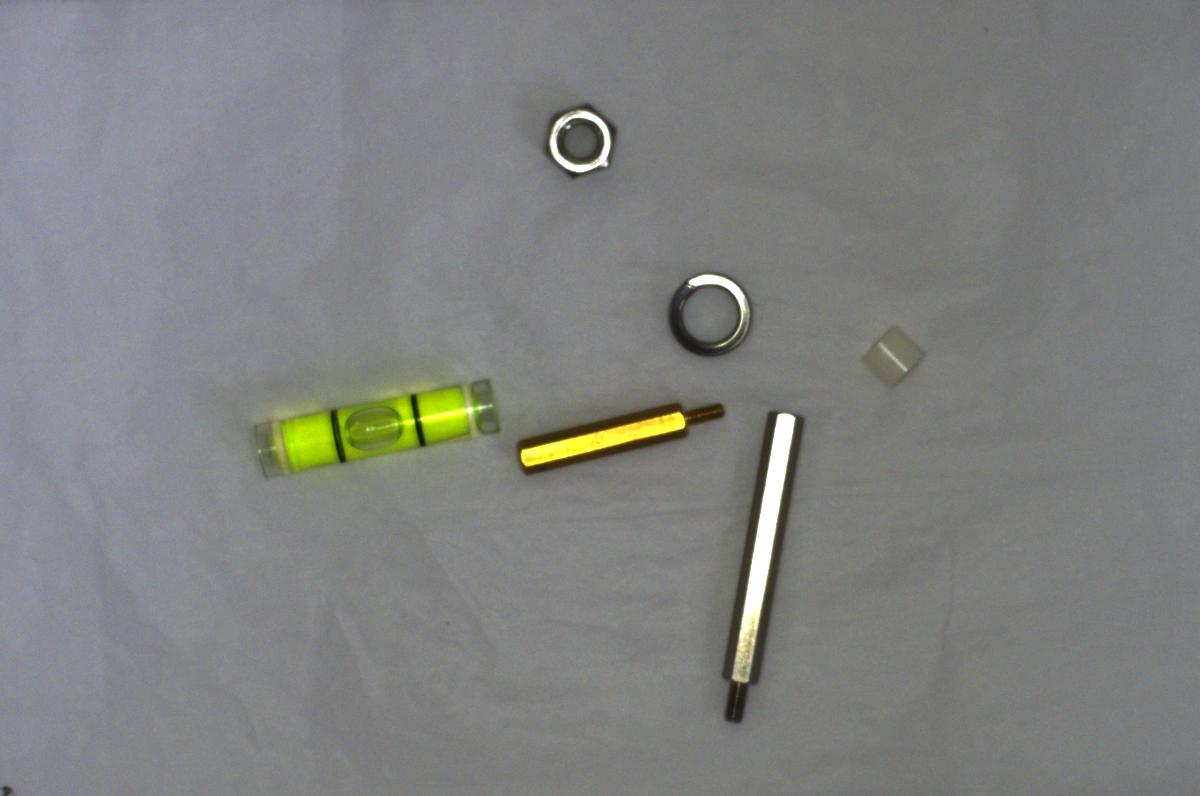Hexagon nut: (534, 85, 628, 188)
Hexagon pillar: (508, 386, 726, 476)
Hexagonal steel column: (711, 400, 805, 733)
Horizontal bubble: (252, 373, 507, 476)
Plastic cushion pillar: (857, 318, 931, 390)
Spring washer: (664, 262, 755, 356)
